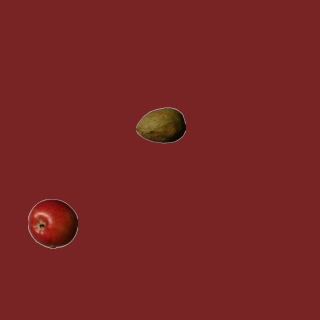Apple Braeburn: (27, 198, 77, 248)
Papaya: (135, 100, 185, 150)
